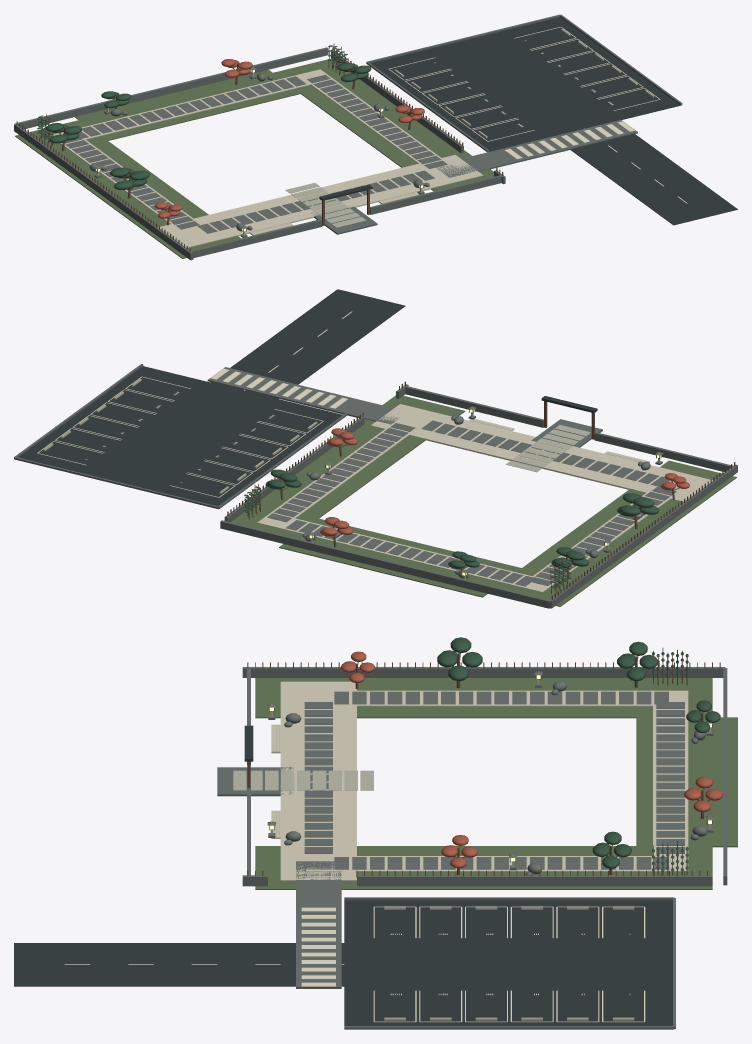
File: garden.glb
3 renders of one model, top to bottom at view 1: azimuth 30°, elevation 25°; view 2: azimuth 150°, elevation 25°; view 3: azimuth 270°, elevation 25°, orthographic. The views are drawn at different scales.
Visible parts, largest first — view 1: GC-SUSHI-GARDEN-001; view 2: GC-SUSHI-GARDEN-001; view 3: GC-SUSHI-GARDEN-001.
Part boxes in pixels (box(x1,y1,x2,y2)): GC-SUSHI-GARDEN-001: box(14, 14, 737, 260); GC-SUSHI-GARDEN-001: box(14, 289, 737, 608); GC-SUSHI-GARDEN-001: box(14, 637, 737, 1029).
Bounding box in the file's own units: 66.11 × 3.79 × 57.
